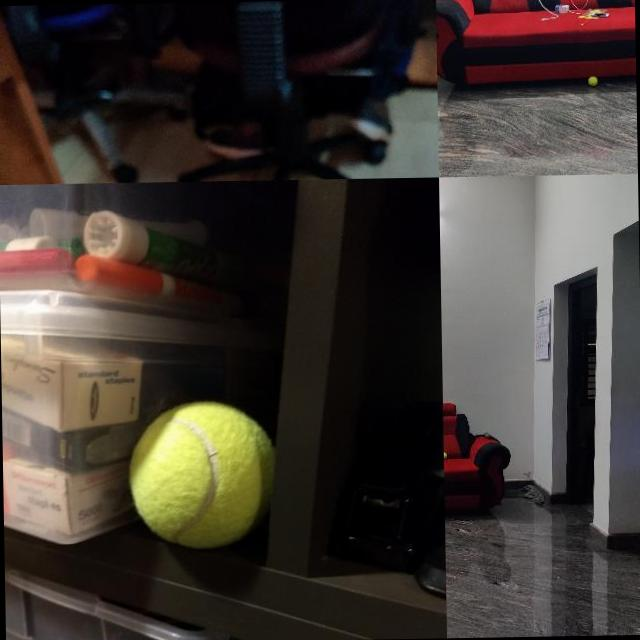Tennis Ball: (125, 399, 270, 550), (587, 75, 597, 85), (444, 451, 446, 460)
